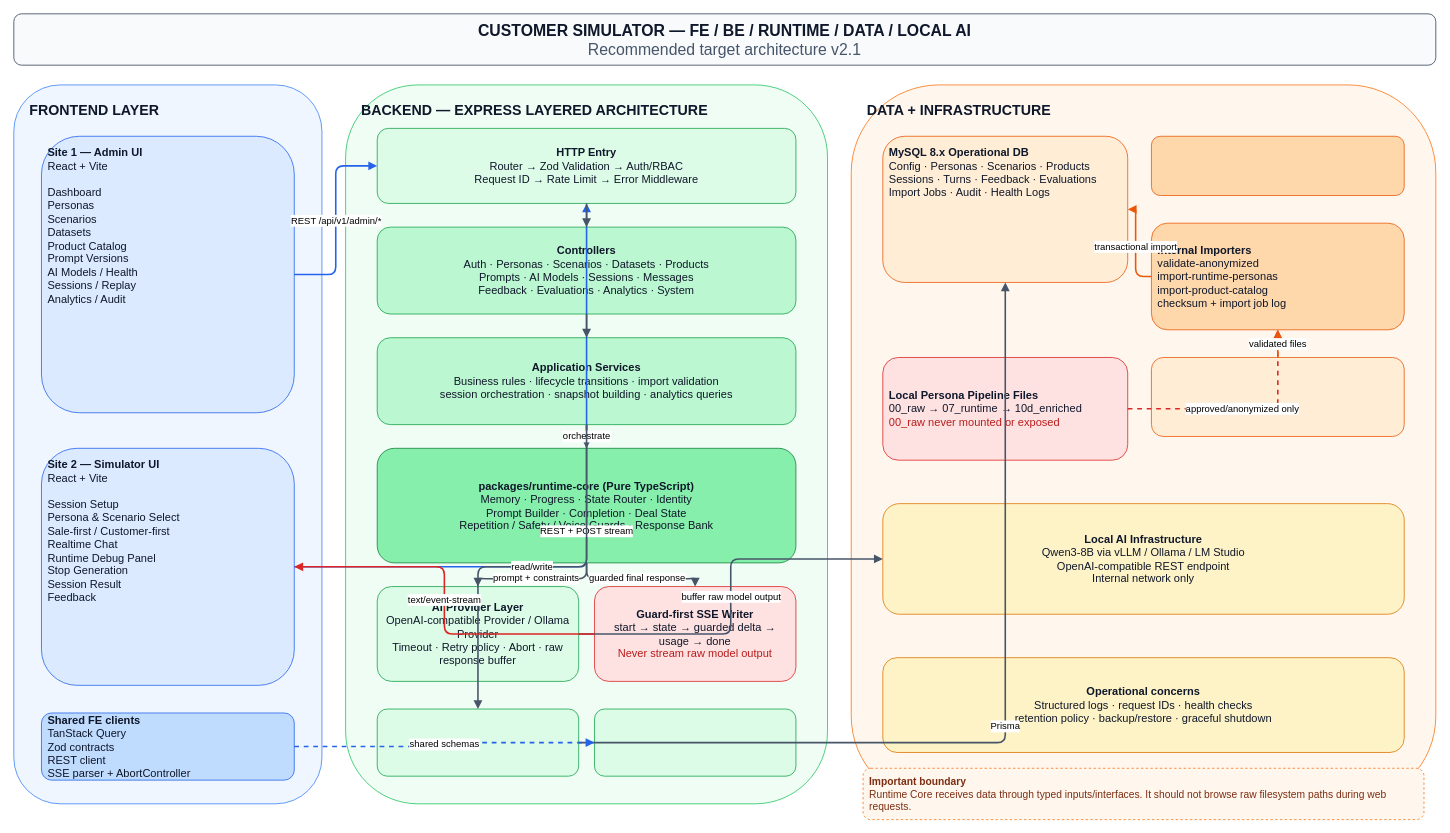
Image size: 1450x833. Some labels were removed from this diagram. The centre of each missing label's shape, as x and y in pixels:
packages/contracts Shared DTO + Zod schemas API event contracts: the point at 695,742
phpMyAdmin Development / inspection only: the point at 1277,165
Repositories Prisma-only data access No business rules: the point at 477,742
storage/runtime-datasets Anonymized, validated, importable only: the point at 1277,396
